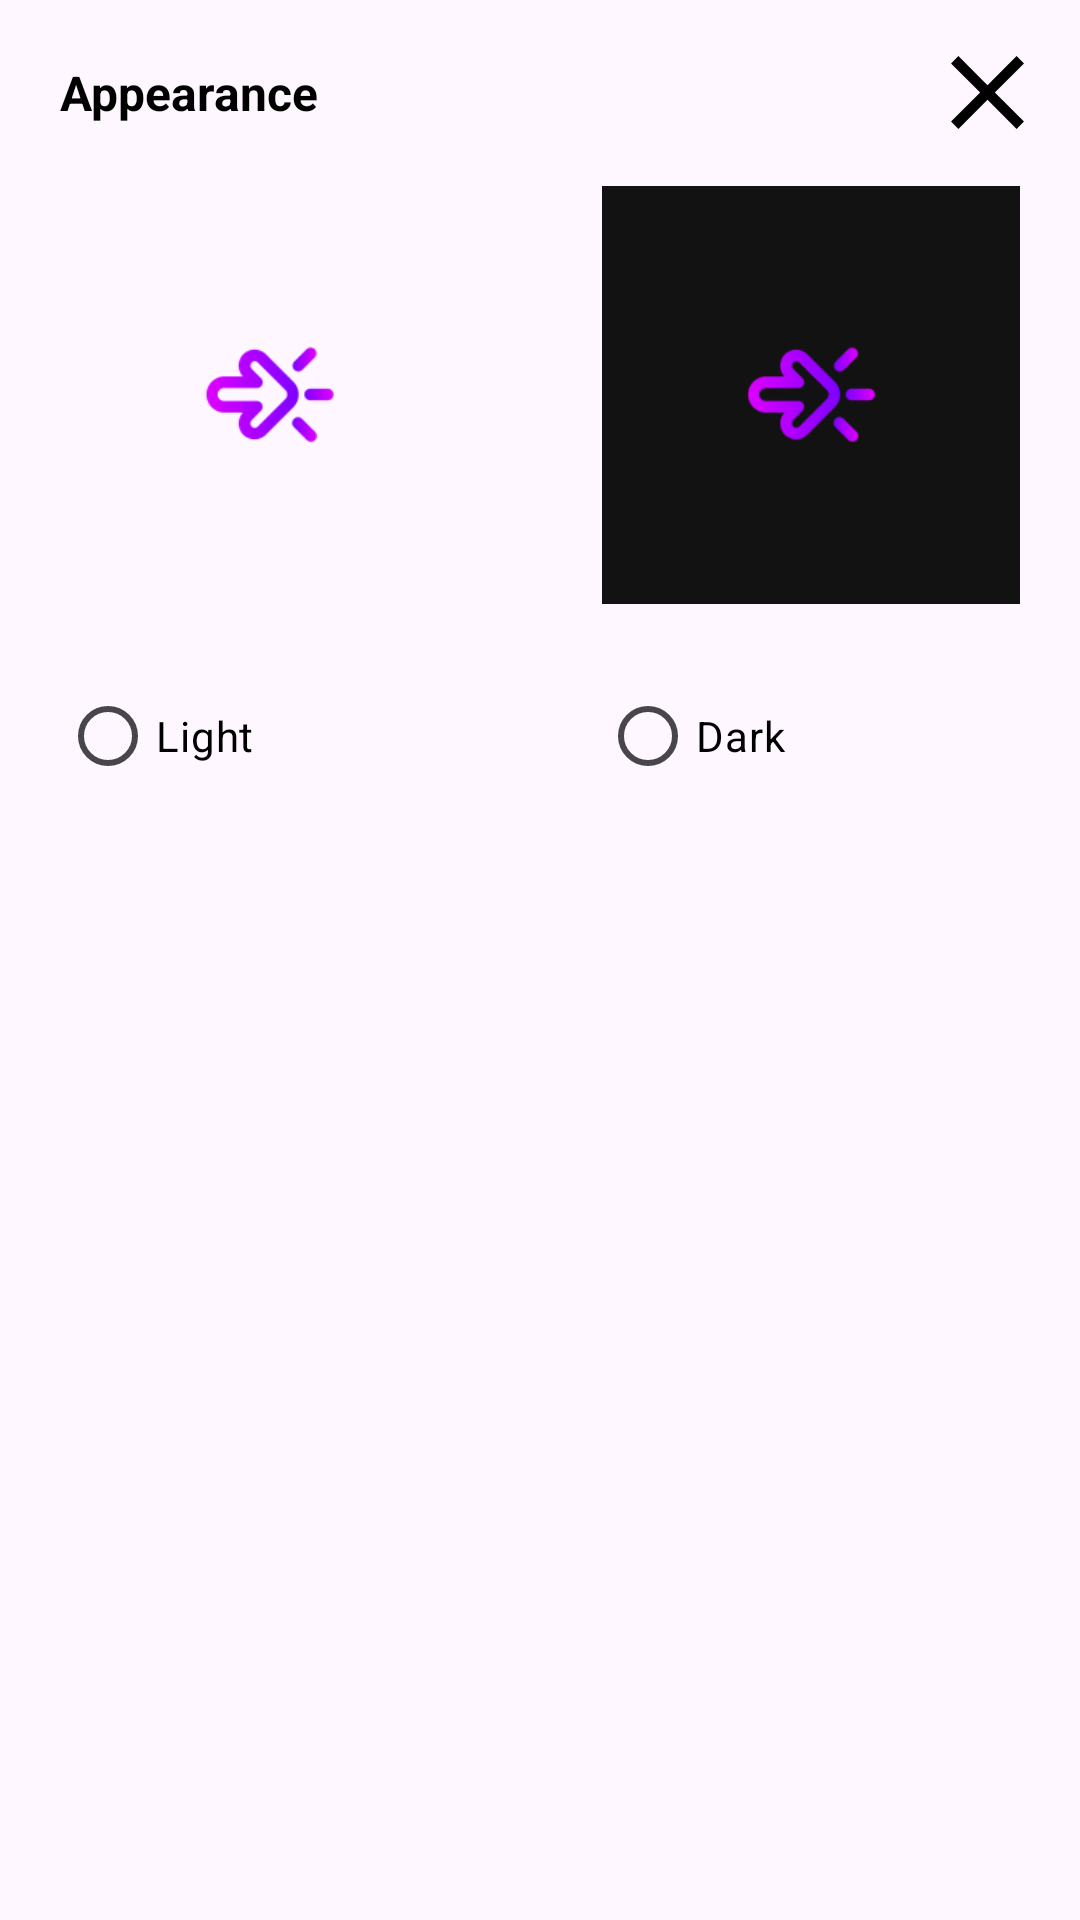

Icons on this 1080px×1920px Android screen, each with the point to tap as (x,y):
close: (987,92)
